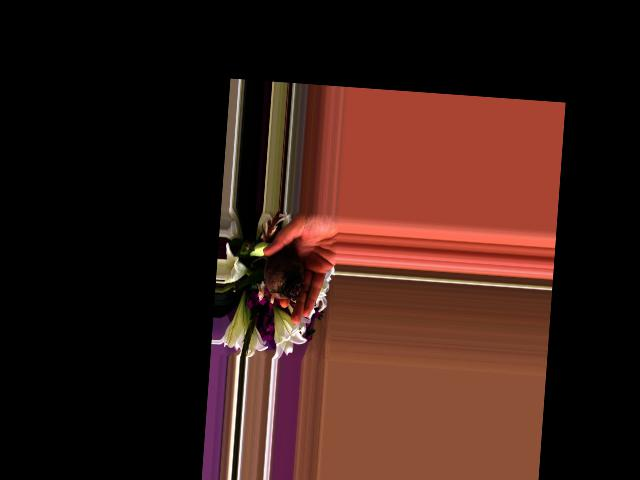beet: (249, 245, 306, 301)
